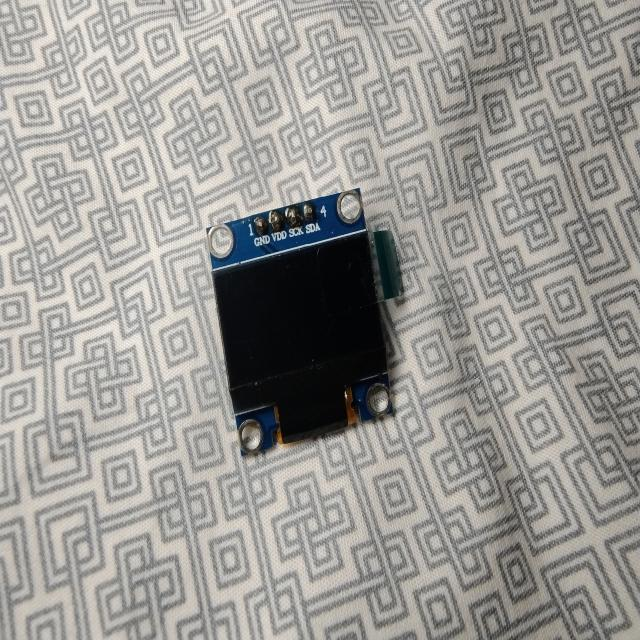oled: (205, 180, 408, 462)
